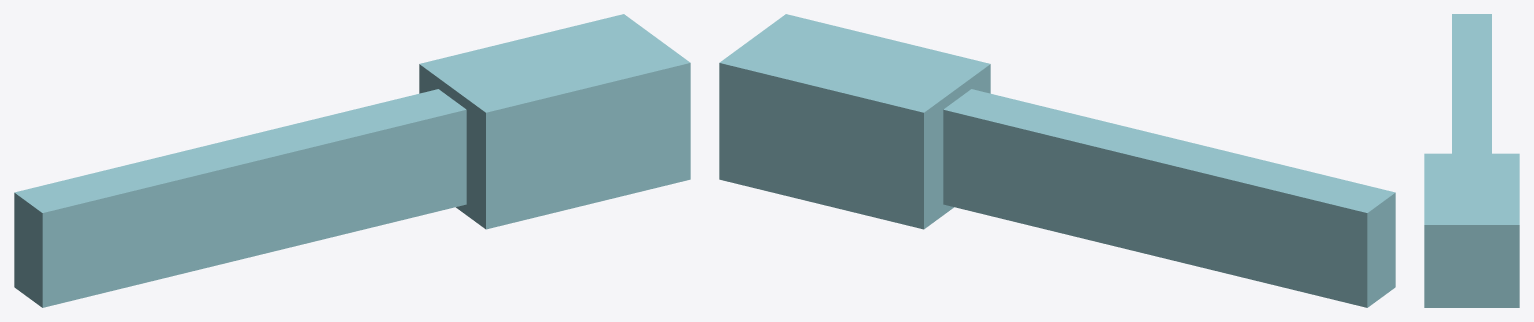
File: cuboid_brush_v8000.obj
The picture shows the model from 3 angles, left to right: view 1: azimuth 30°, elevation 25°; view 2: azimuth 150°, elevation 25°; view 3: azimuth 270°, elevation 25°; orthographic projection. The views are drawn at different scales.
Size of the model in its own units: 0.2055 by 0.0364 by 0.0378.
1 material, 1 textured.
